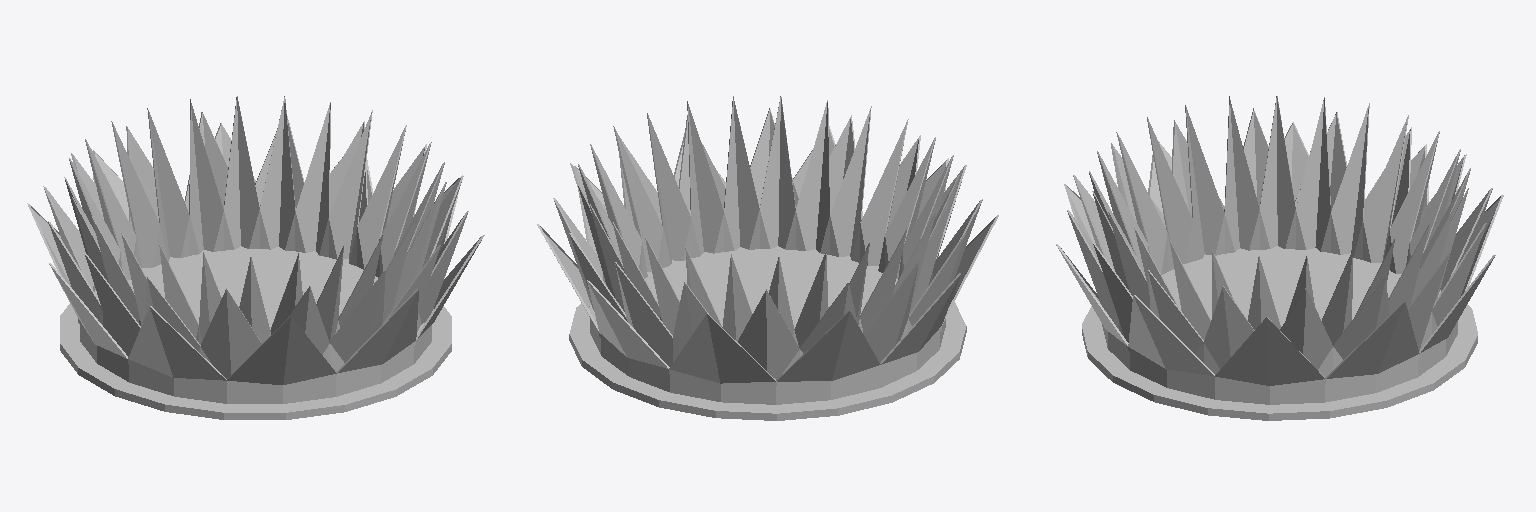
The model's file is portal_000040.obj.
3 views of the same model, side by side, from view 1: azimuth 30°, elevation 25°; view 2: azimuth 150°, elevation 25°; view 3: azimuth 270°, elevation 25° (orthographic).
Visible parts, largest first — view 1: Cylinder.001, pCylinder1, Cylinder; view 2: Cylinder.001, pCylinder1, Cylinder; view 3: Cylinder.001, pCylinder1, Cylinder.
Part boxes in pixels (left/top/right/bottom): Cylinder.001: left=64, top=96, right=446, bottom=344; pCylinder1: left=27, top=123, right=484, bottom=419; Cylinder: left=43, top=112, right=468, bottom=378; Cylinder.001: left=578, top=96, right=959, bottom=347; pCylinder1: left=537, top=126, right=998, bottom=420; Cylinder: left=553, top=108, right=982, bottom=379; Cylinder.001: left=1089, top=96, right=1470, bottom=344; pCylinder1: left=1056, top=122, right=1503, bottom=420; Cylinder: left=1067, top=108, right=1492, bottom=377.
Bounding box in the file's own units: 7.44 × 2.9 × 7.2.